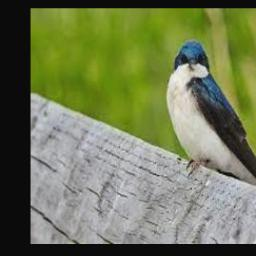Swallow: (166, 41, 256, 192)
